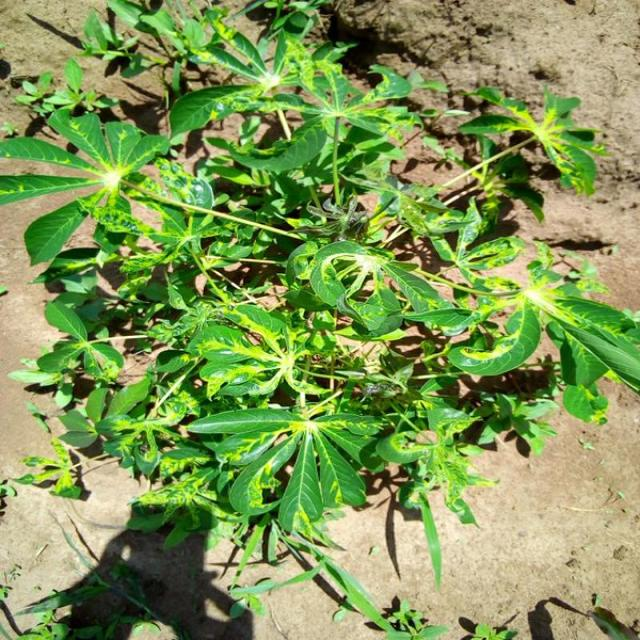cassava leaf: (0, 1, 638, 635), (185, 389, 382, 538)
